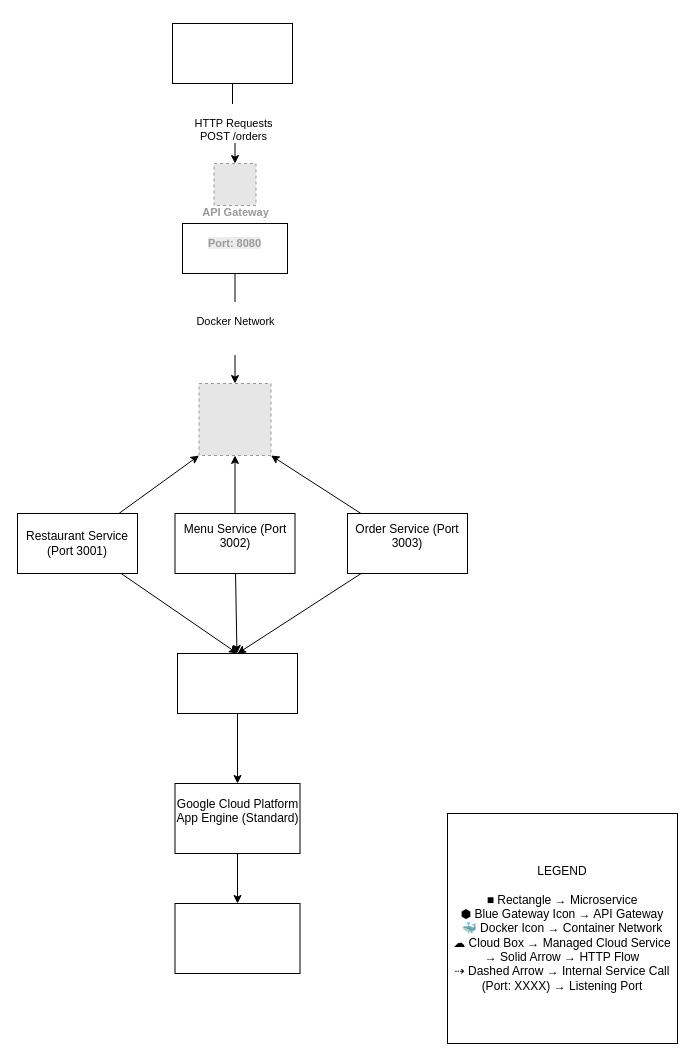
The diagram is 695 pixels wide and 1061 high, and some of its shapes have lost their labels. Grey dashed boxes stand in for pictures. Each missing label, with the centre of its shape:
Client (Browser / Postman): [232,53]
Cloud Deployment: [237,683]
Order Service (Deployed): [237,938]
